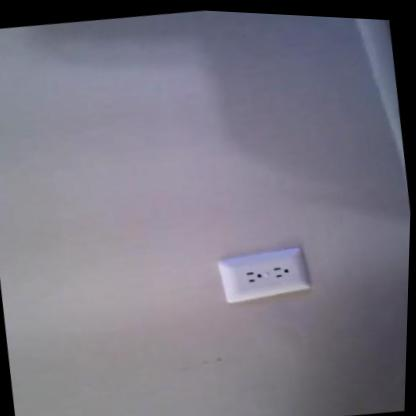OUTLET: (217, 242, 310, 306)
